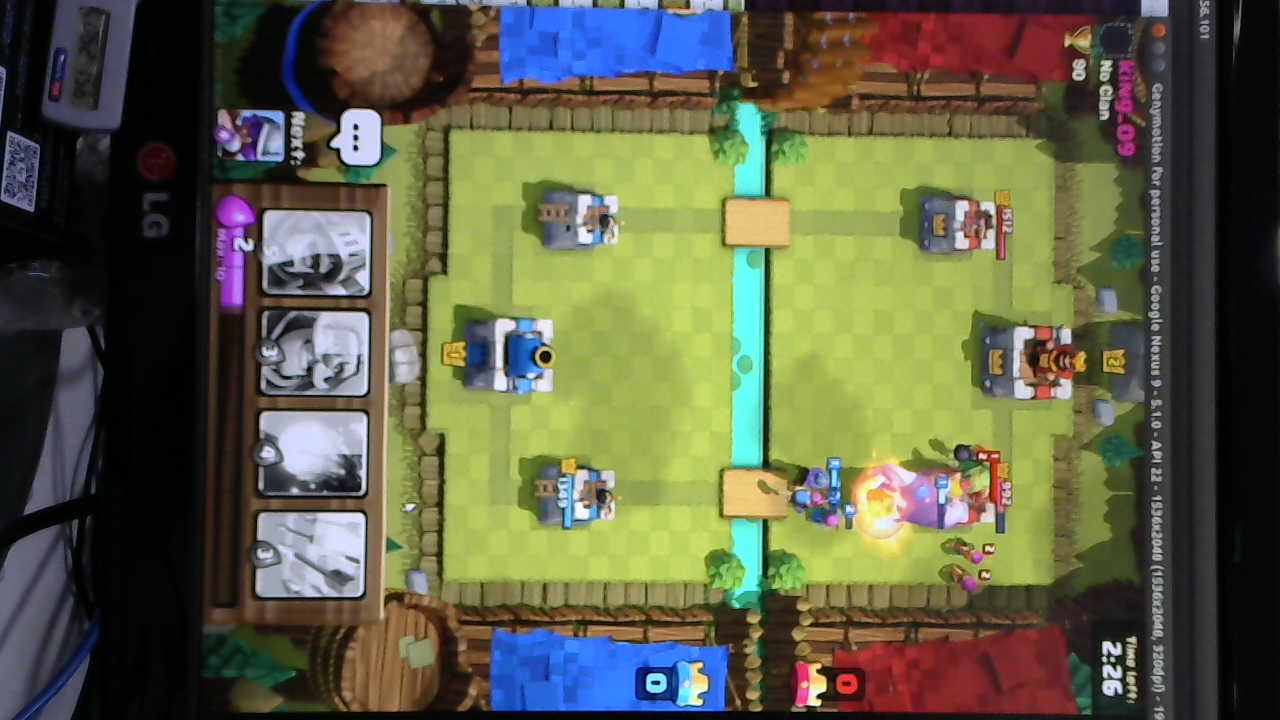archers: (939, 530, 989, 596), (805, 487, 848, 537)
arena: (542, 465, 623, 531), (548, 192, 623, 253)
bomb: (949, 438, 1003, 475), (783, 485, 817, 513)
dragon: (949, 462, 1015, 505)
earena: (921, 197, 998, 259), (928, 470, 999, 527)
eking: (979, 322, 1082, 404)
giant: (874, 462, 936, 541)
king: (458, 315, 560, 396)
musketeer: (790, 462, 849, 491)
